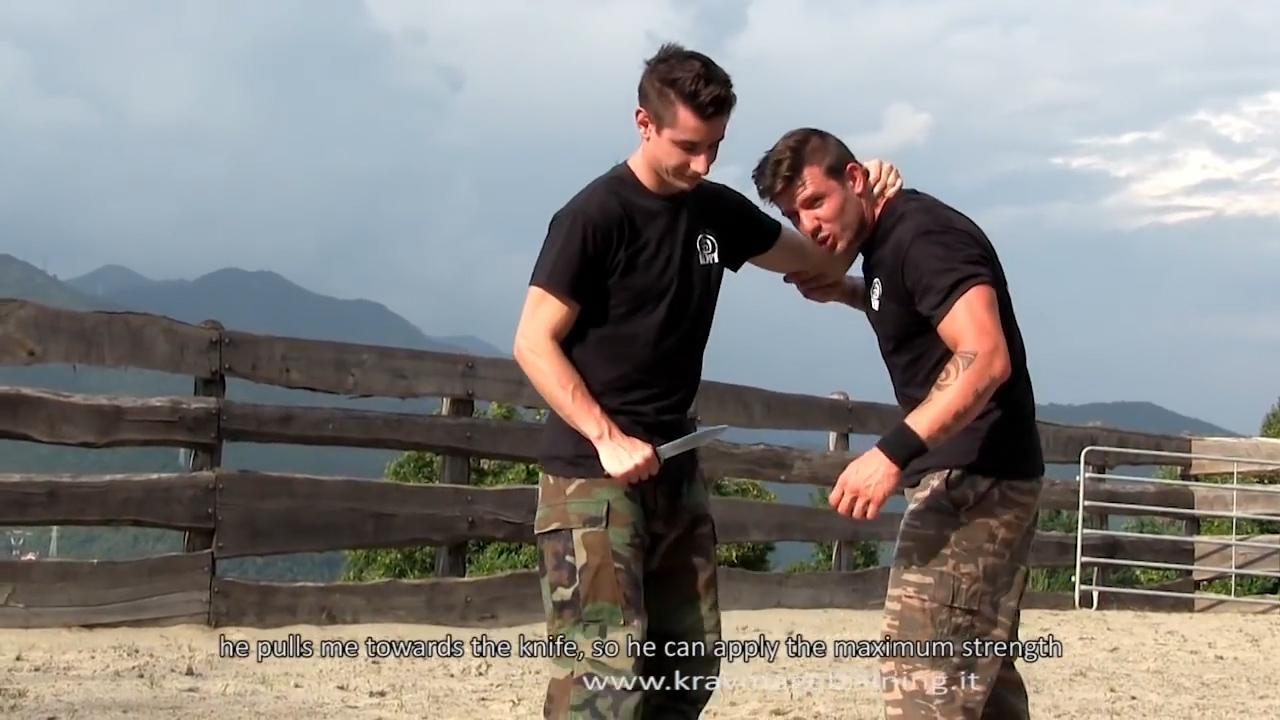knife: (601, 416, 741, 491)
